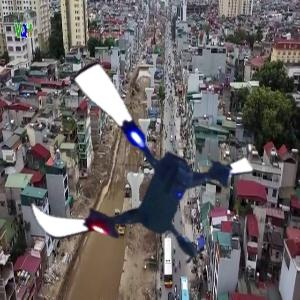drone: (15, 60, 251, 296)
